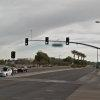Traffic light: (19, 34, 78, 49)
